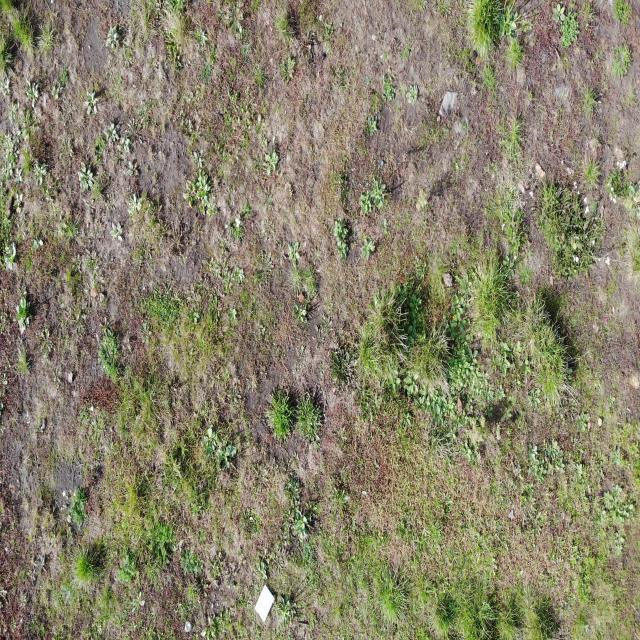rubbish: (254, 584, 276, 624)
